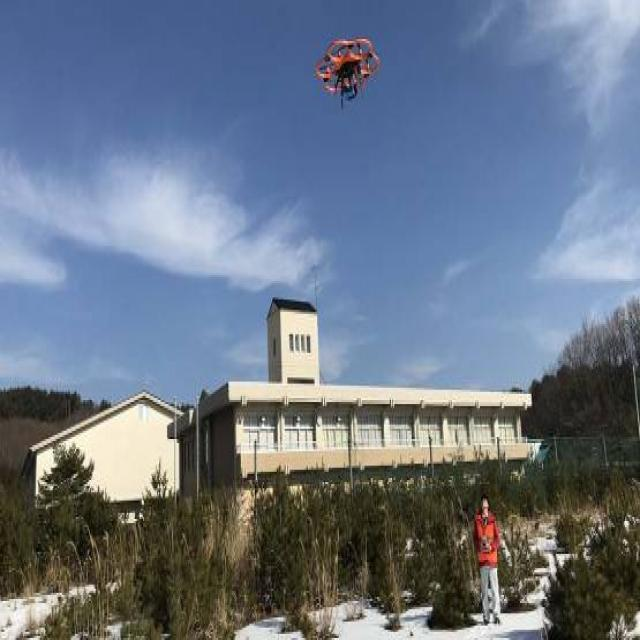Drone: (311, 25, 382, 109)
